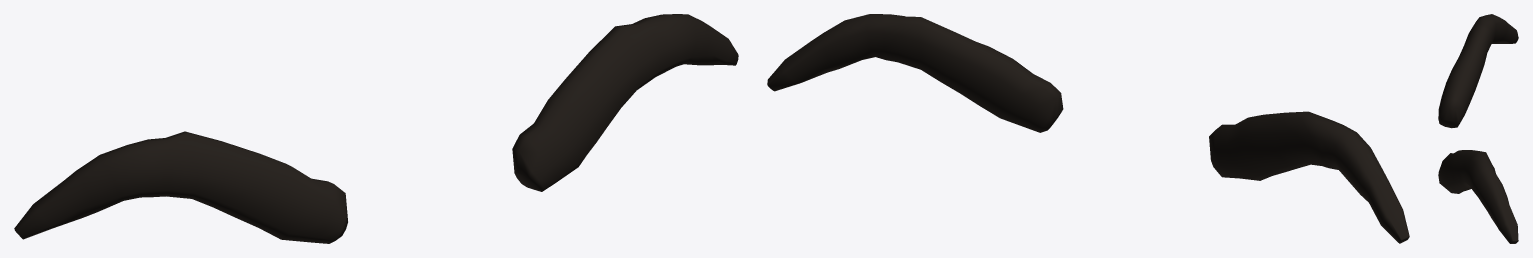
File: Eyebrows_19_01.fbx
The picture shows the model from 3 angles, left to right: view 1: azimuth 30°, elevation 25°; view 2: azimuth 150°, elevation 25°; view 3: azimuth 270°, elevation 25°; orthographic projection. The views are drawn at different scales.
Parts seen in each view (by area): view 1: Eyebrows_19_01; view 2: Eyebrows_19_01; view 3: Eyebrows_19_01.
Part boxes in pixels (x1,y1,x2,y2): Eyebrows_19_01: (14,14,738,243); Eyebrows_19_01: (767,14,1409,243); Eyebrows_19_01: (1438,14,1518,243).
Size of the model in its own units: 18.29 by 2.86 by 3.02.
